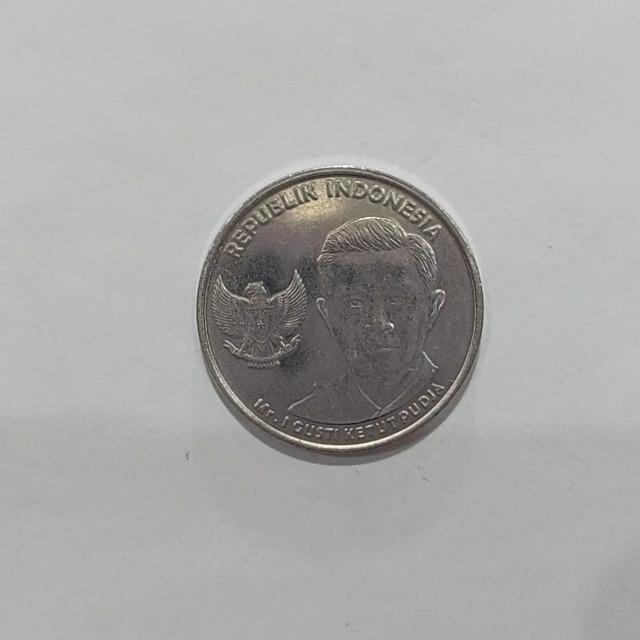Rp100: (194, 161, 485, 463)
